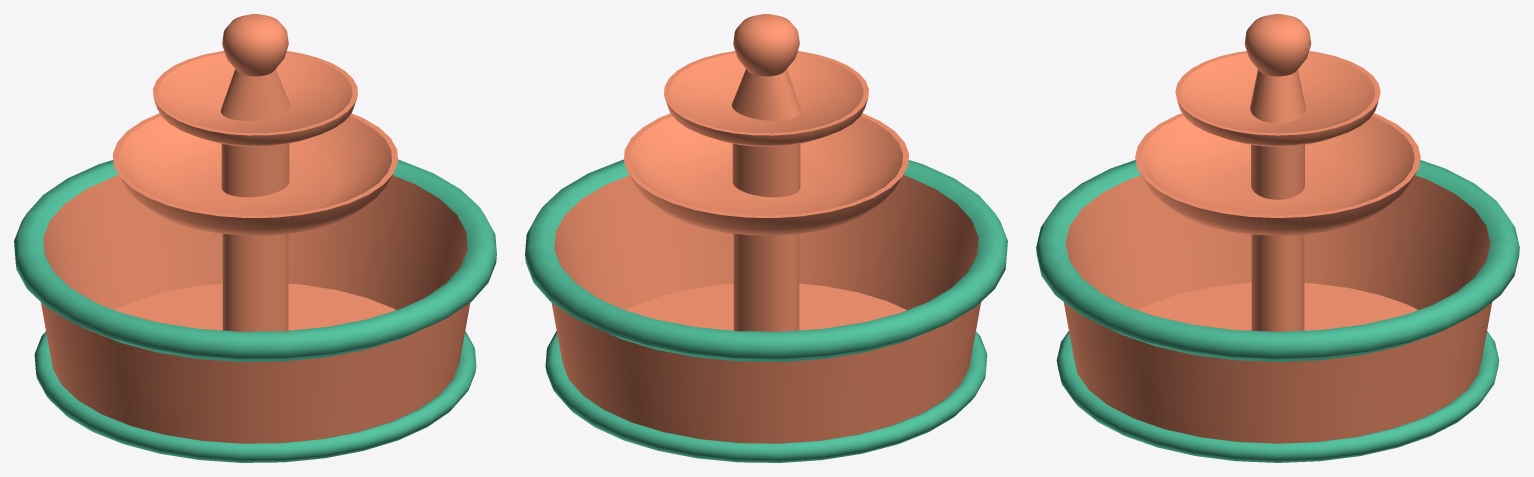
The model's file is m_blockoutfontaine_01.fbx.
3 renders of one model, left to right at view 1: azimuth 30°, elevation 25°; view 2: azimuth 150°, elevation 25°; view 3: azimuth 270°, elevation 25°, orthographic.
Parts seen in each view (by area): view 1: Cylinder.001; view 2: Cylinder.001; view 3: Cylinder.001.
Boxes of the visible parts, bbox=[...] form: Cylinder.001: bbox=[14, 14, 496, 462]; Cylinder.001: bbox=[525, 14, 1007, 462]; Cylinder.001: bbox=[1036, 14, 1519, 462].
Size of the model in its own units: 231 by 185 by 231.
